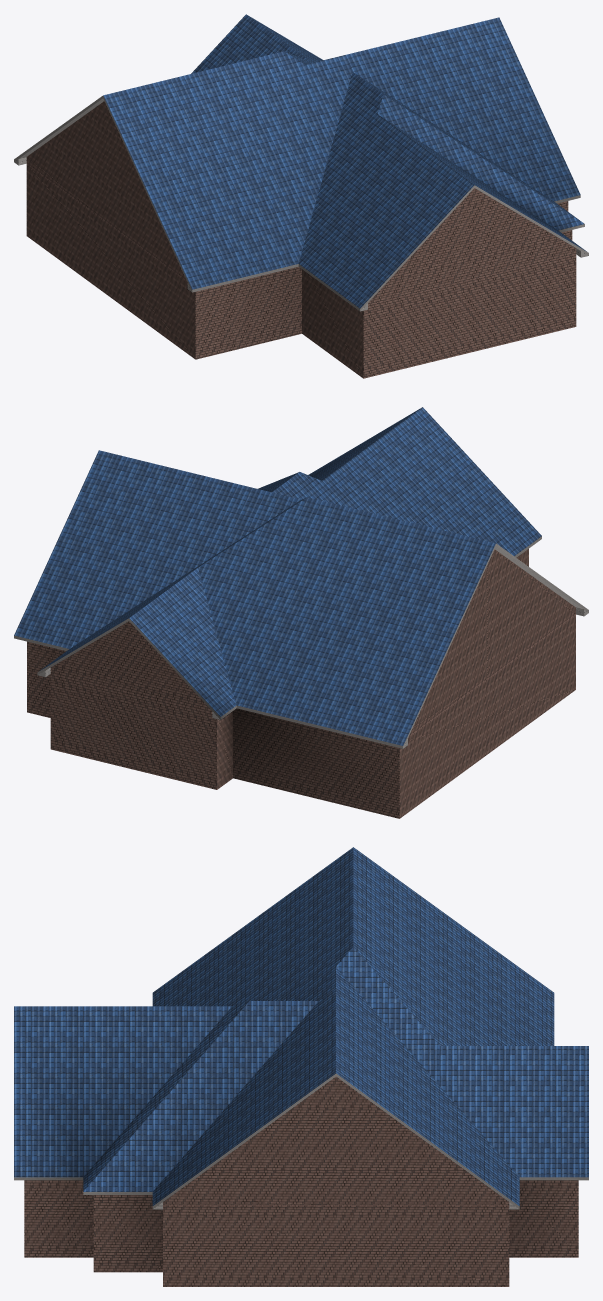
The model's file is house_01.glb.
The picture shows the model from 3 angles, top to bottom: view 1: azimuth 30°, elevation 25°; view 2: azimuth 150°, elevation 25°; view 3: azimuth 270°, elevation 25°; orthographic projection. The views are drawn at different scales.
Visible parts, largest first — view 1: Export; view 2: Export; view 3: Export.
Part boxes in pixels (x1,y1,x2,y2): Export: (14,14,588,378); Export: (14,407,588,818); Export: (14,847,588,1286).
Size of the model in its own units: 14.6 by 7.34 by 16.6.
3 materials, 3 textured.
